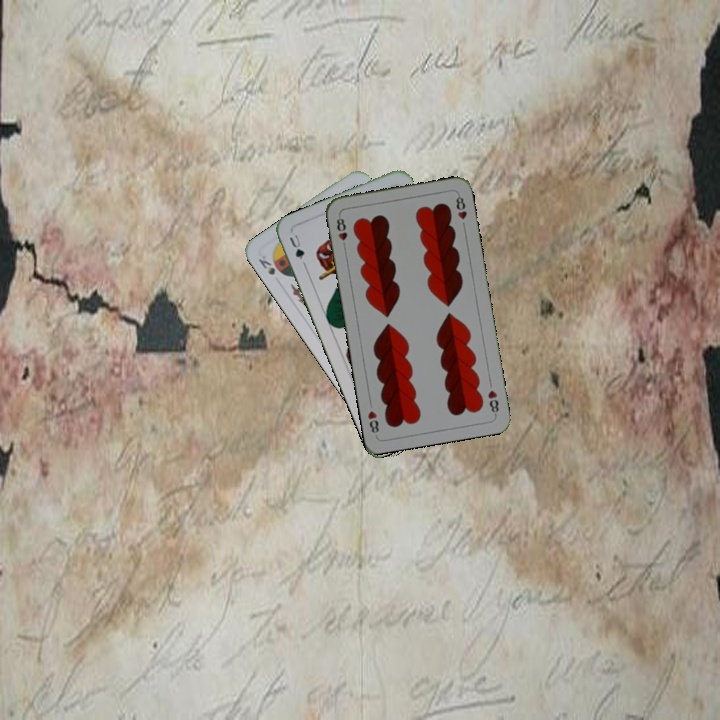GU: (285, 230, 307, 262)
H8: (332, 211, 350, 252), (484, 386, 501, 417)
SK: (254, 251, 278, 278)
